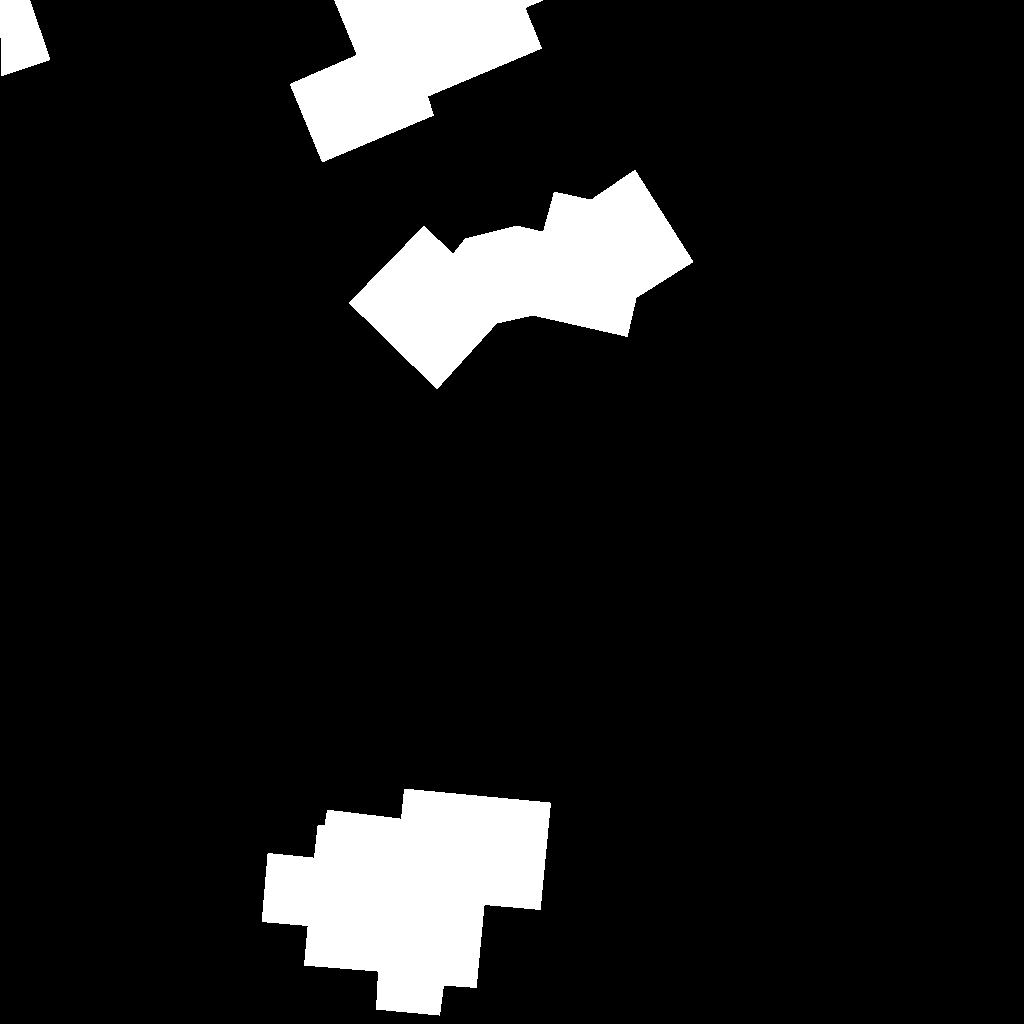building: (349, 170, 694, 390), (262, 789, 552, 1016), (290, 0, 545, 163), (0, 0, 51, 77)
